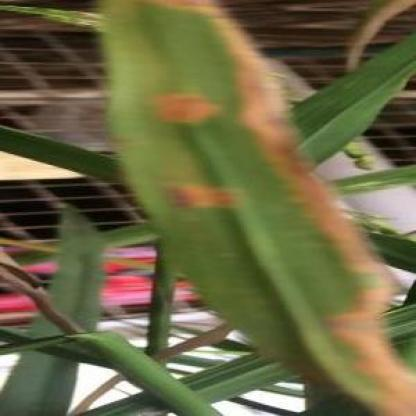Blight: (99, 1, 416, 416)
